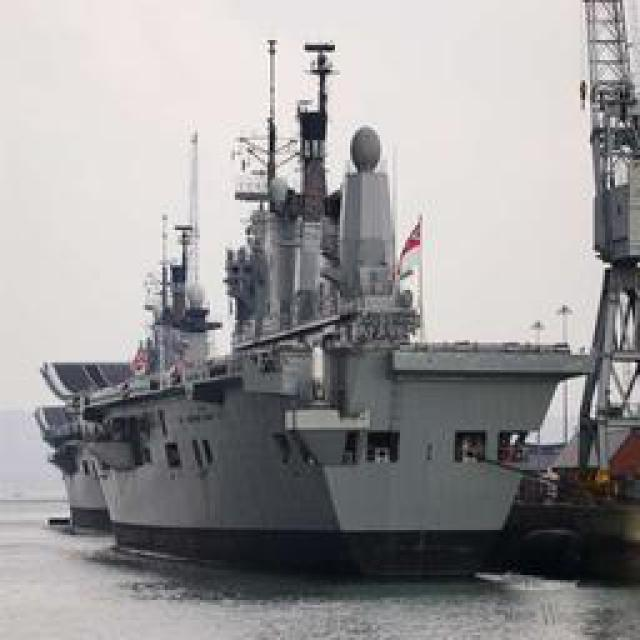Ship: (51, 36, 601, 569)
